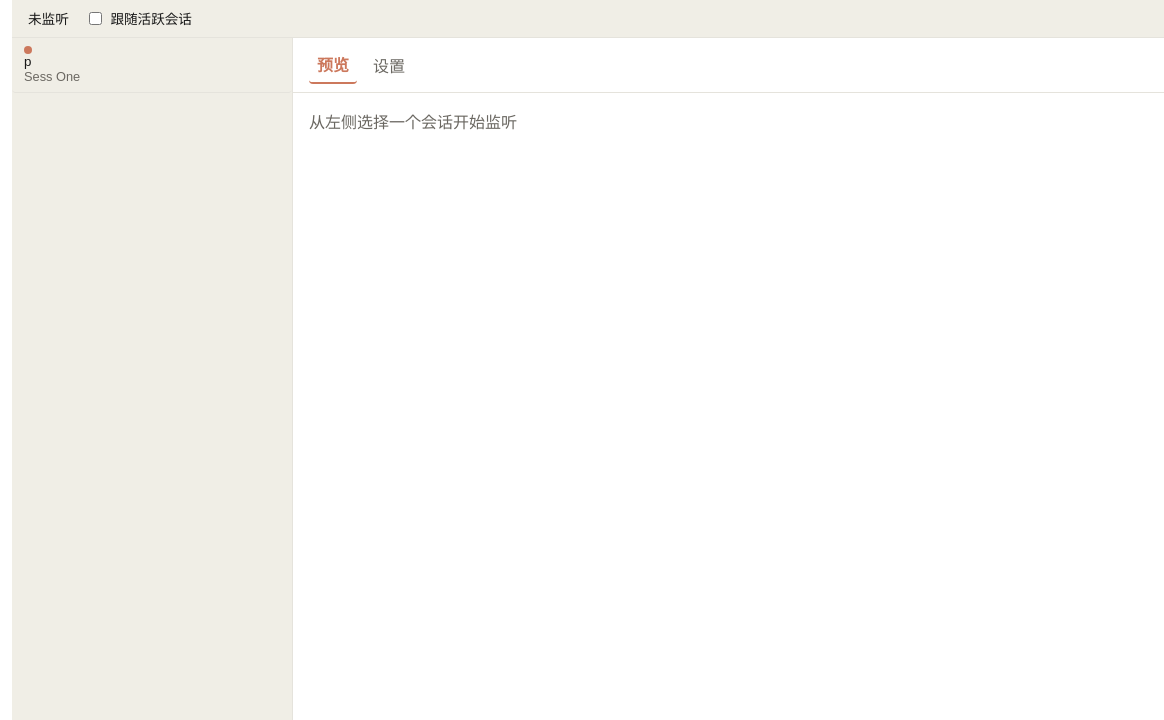
Test case: App session selection › shows the waiting message when the snapshot fetch returns ok=false
Click the text "Sess One" at (52, 76), box [24, 69, 80, 84]
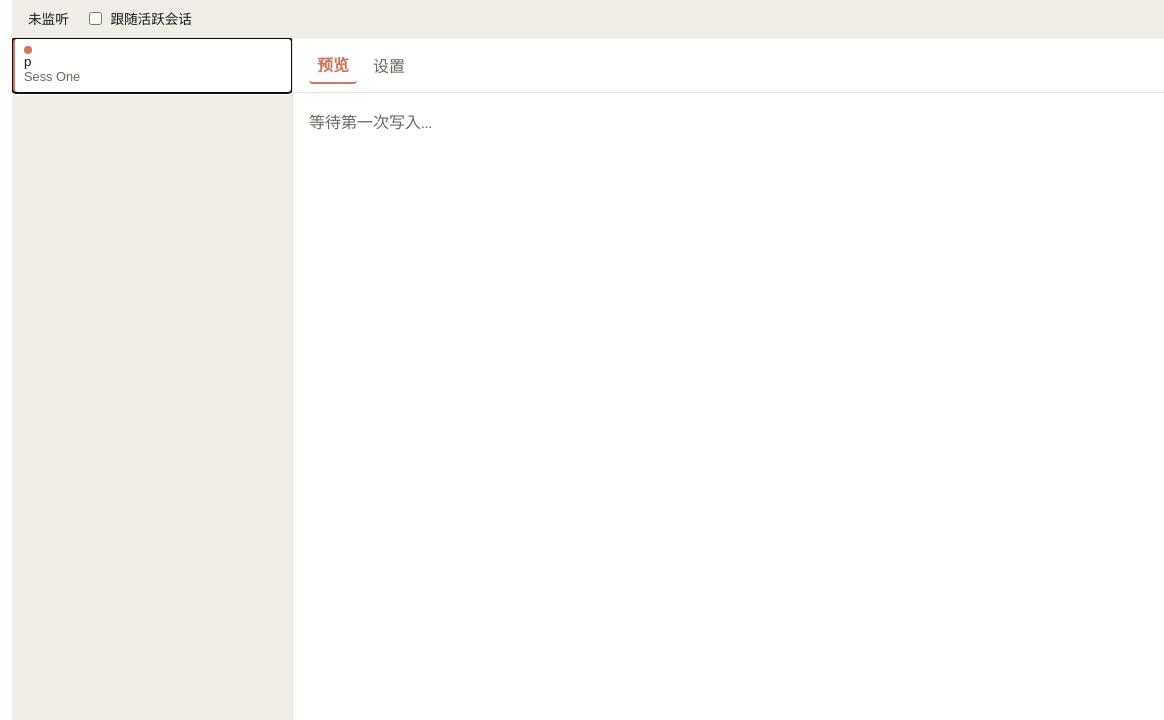
Check: the text "等待第一次写入…" is shown, box [309, 112, 432, 134]
